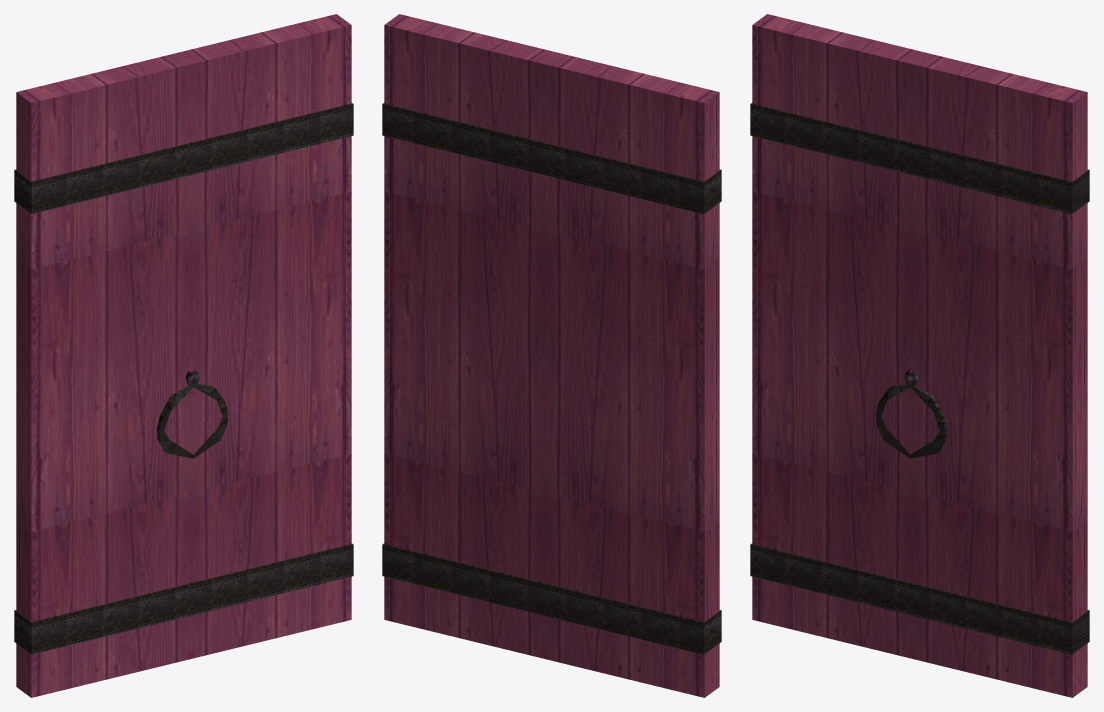
File: PinkDoor.fbx
3 renders of one model, left to right at view 1: azimuth 30°, elevation 25°; view 2: azimuth 150°, elevation 25°; view 3: azimuth 330°, elevation 25°, orthographic.
Visible parts, largest first — view 1: Door; view 2: Door; view 3: Door.
Boxes of the visible parts, x1,y1,x2,y2 form: Door: (14,14,353,697); Door: (382,14,721,697); Door: (750,14,1089,697).
Size of the model in its own units: 1032 by 1821 by 102.
